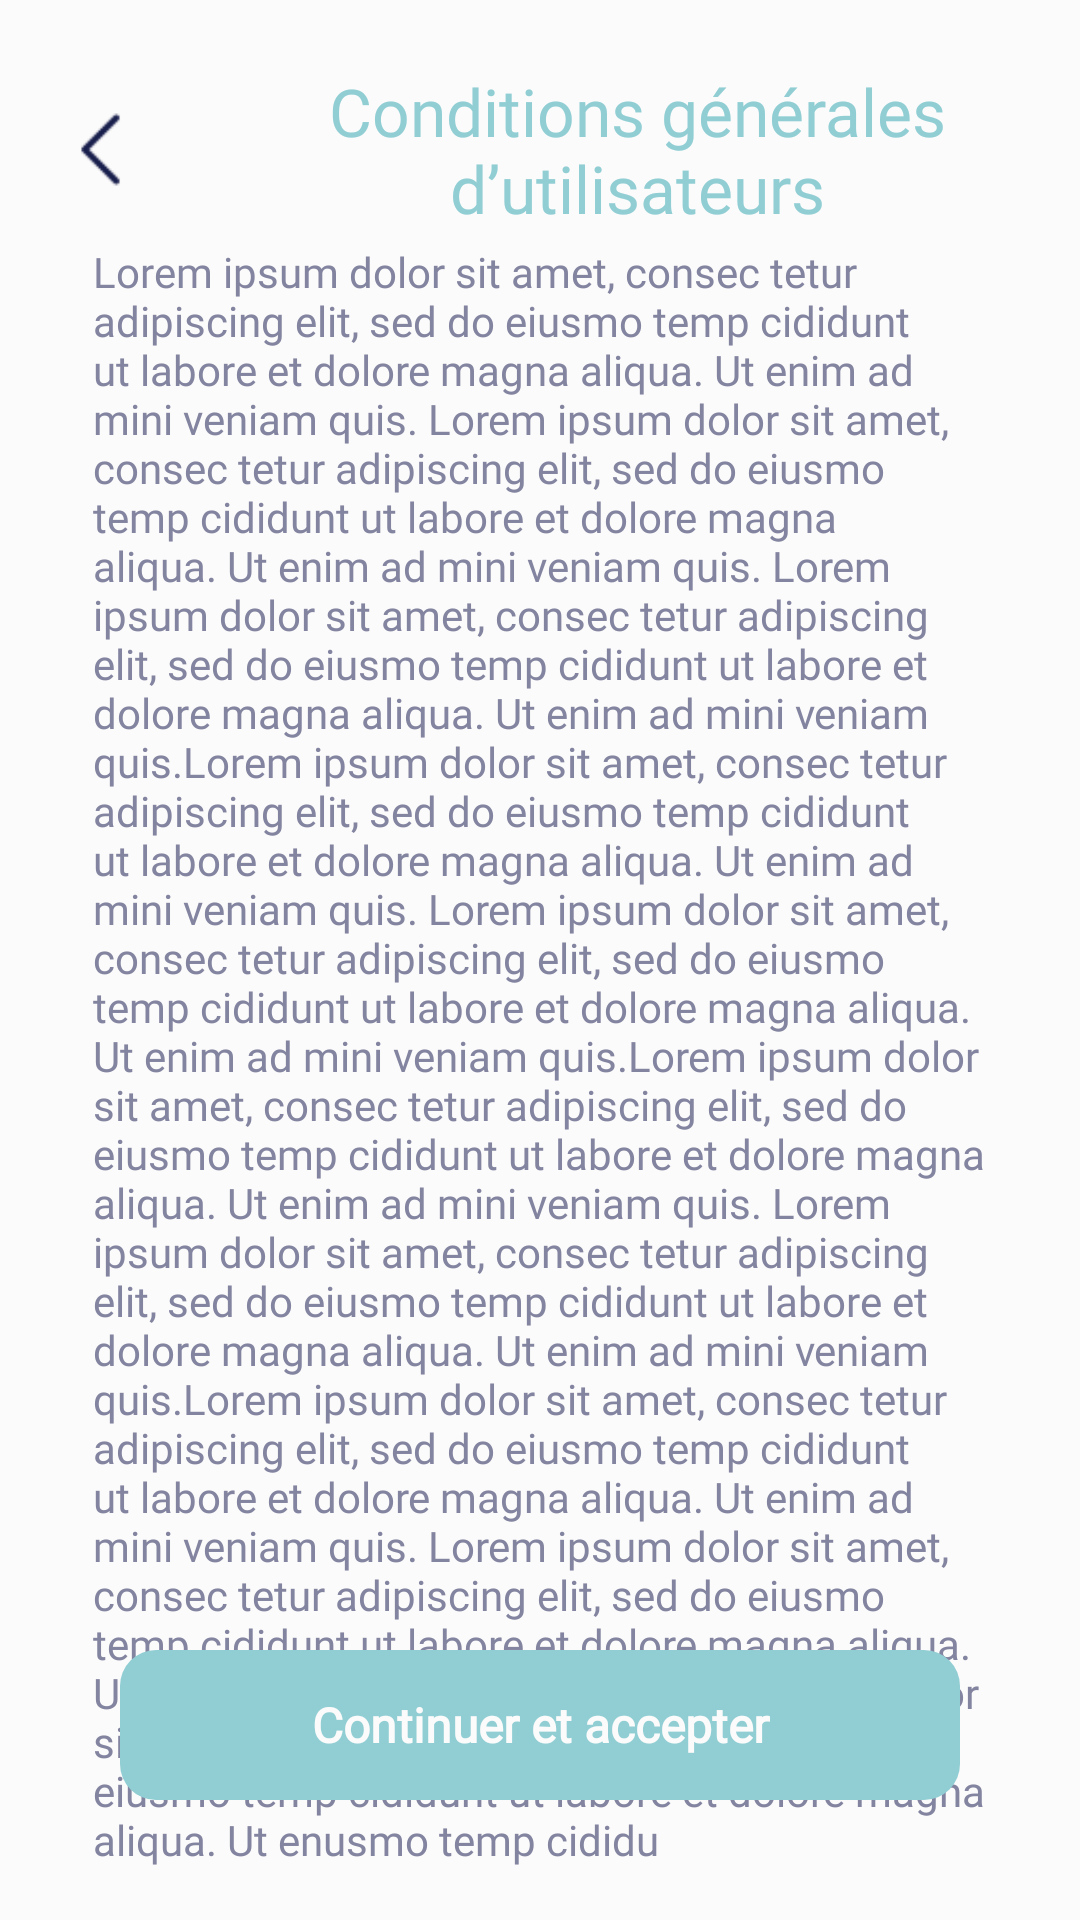

Named icons in this screenshot (1080px×1920px) and their centers, (x=x, y=y):
blackback: (x=100, y=149)
